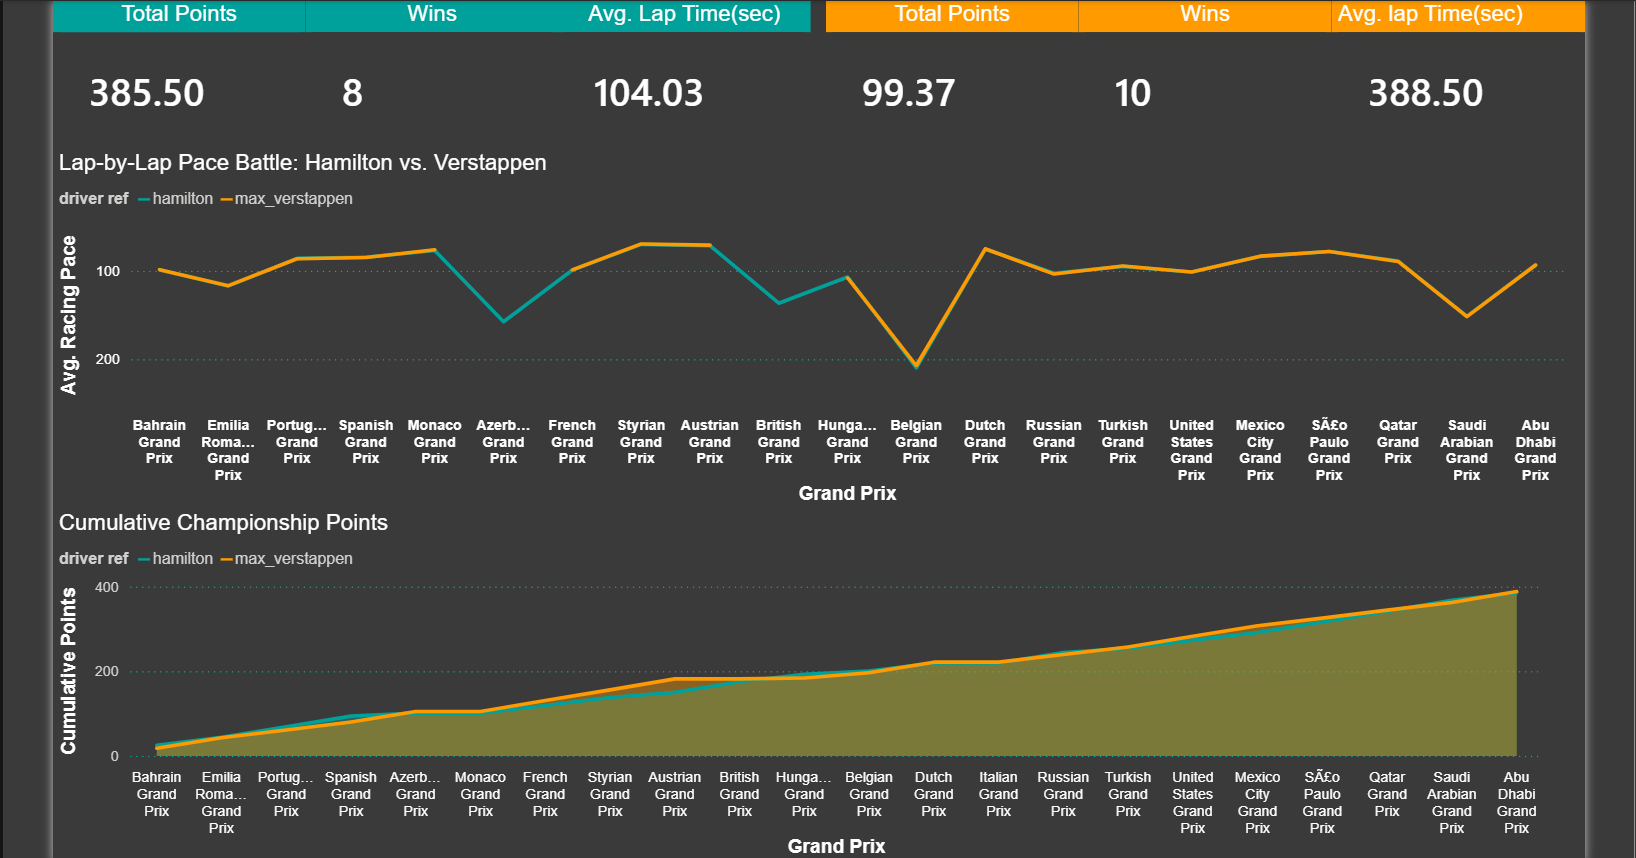

The page's visual inventory and layout, read from the dashboard file:
{"tool":"powerbi","page":{"name":"Page 1","canvas":[1280,720],"ordinal":0},"visuals":[{"type":"lineChart","title":"Lap-by-Lap Pace Battle: Hamilton  vs. Verstappen","fields":{"Category":["races.name"],"Series":["2021 F1 Cleaned.driver ref"],"Y":["2021 F1 Cleaned.Average Racing Pace(Sec)"]},"box":[0,124.2,1270.4,301.1],"z":0},{"type":"areaChart","title":"Cumulative Championship Points ","fields":{"Category":["races.name"],"Y":["2021 F1 Cleaned.Cumulative Points"],"Series":["2021 F1 Cleaned.driver ref"]},"box":[0,425.3,1253.2,294.7],"z":1000},{"type":"cardVisual","title":"Total Points","fields":{"Data":["Sum(2021 F1 Cleaned.points)"]},"box":[0,0,211,123.9],"z":2000},{"type":"cardVisual","title":"Avg. lap Time(sec)","fields":{"Data":["Sum(2021 F1 Cleaned.points)"]},"box":[1068,0,212,124.5],"z":3000},{"type":"cardVisual","title":"Wins","fields":{"Data":["2021 F1 Cleaned.Total Wins"]},"box":[211,0,211,124.8],"z":4000},{"type":"cardVisual","title":"Avg. Lap Time(sec)","fields":{"Data":["2021 F1 Cleaned.Average Racing Pace(Sec)"]},"box":[422.1,0,211.1,124.5],"z":5000},{"type":"cardVisual","title":"Wins","fields":{"Data":["2021 F1 Cleaned.Total Wins"]},"box":[856.9,0,211.1,124.5],"z":6000},{"type":"cardVisual","title":"Total Points","fields":{"Data":["2021 F1 Cleaned.Average Racing Pace(Sec)"]},"box":[645.8,0,211.1,124.5],"z":7000}]}

Visuals, with their boxes in screenshot pixels (x1, y1, x2, y2):
"Lap-by-Lap Pace Battle: Hamilton  vs. Verstappen" lineChart: box(51, 98, 1488, 439)
"Cumulative Championship Points " areaChart: box(51, 439, 1469, 772)
"Total Points" cardVisual: box(51, 0, 290, 98)
"Avg. lap Time(sec)" cardVisual: box(1259, 0, 1499, 98)
"Wins" cardVisual: box(290, 0, 529, 99)
"Avg. Lap Time(sec)" cardVisual: box(529, 0, 767, 98)
"Wins" cardVisual: box(1021, 0, 1259, 98)
"Total Points" cardVisual: box(782, 0, 1021, 98)
